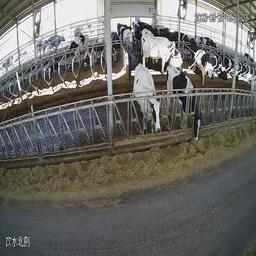cow: (166, 65, 204, 143), (131, 66, 164, 153), (141, 32, 181, 72), (189, 36, 208, 89), (69, 31, 90, 59), (215, 59, 231, 81), (45, 55, 58, 81), (110, 30, 119, 67), (177, 25, 189, 52), (229, 59, 242, 82), (123, 29, 135, 52), (131, 20, 142, 44), (249, 70, 256, 106), (83, 49, 97, 67), (204, 59, 216, 78), (205, 39, 219, 52)
